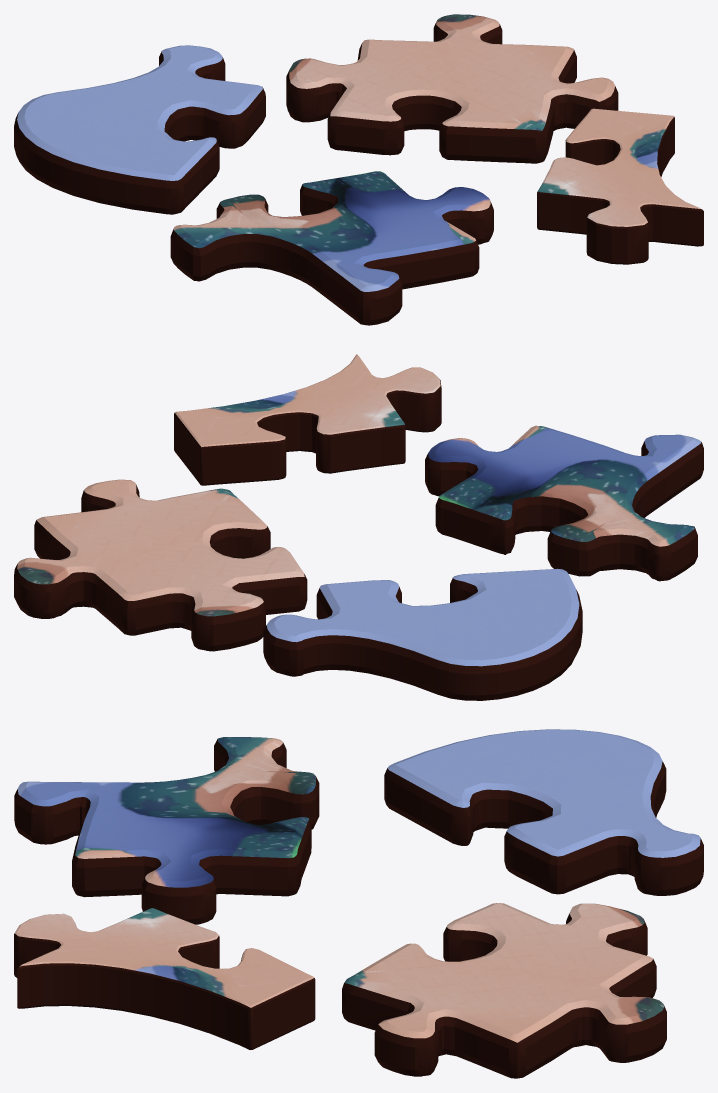
The model's file is Piezas rompecabezas.fbx.
3 renders of one model, top to bottom at view 1: azimuth 30°, elevation 25°; view 2: azimuth 150°, elevation 25°; view 3: azimuth 270°, elevation 25°, orthographic. The views are drawn at different scales.
Parts seen in each view (by area): view 1: BezierCircle_008, BezierCircle_006, BezierCircle_029, BezierCircle_009; view 2: BezierCircle_008, BezierCircle_006, BezierCircle_029, BezierCircle_009; view 3: BezierCircle_008, BezierCircle_029, BezierCircle_006, BezierCircle_009.
Part boxes in pixels (x1,y1,x2,y2): BezierCircle_008: (286,14,618,163); BezierCircle_006: (170,171,493,325); BezierCircle_029: (14,45,265,214); BezierCircle_009: (537,108,703,264); BezierCircle_008: (14,479,307,651); BezierCircle_006: (425,425,703,581); BezierCircle_029: (263,568,582,700); BezierCircle_009: (174,354,441,485); BezierCircle_008: (342,903,666,1078); BezierCircle_029: (384,729,703,895); BezierCircle_006: (14,737,319,924); BezierCircle_009: (14,908,315,1049).
Size of the model in its own units: 9.96 by 1.07 by 9.94.
